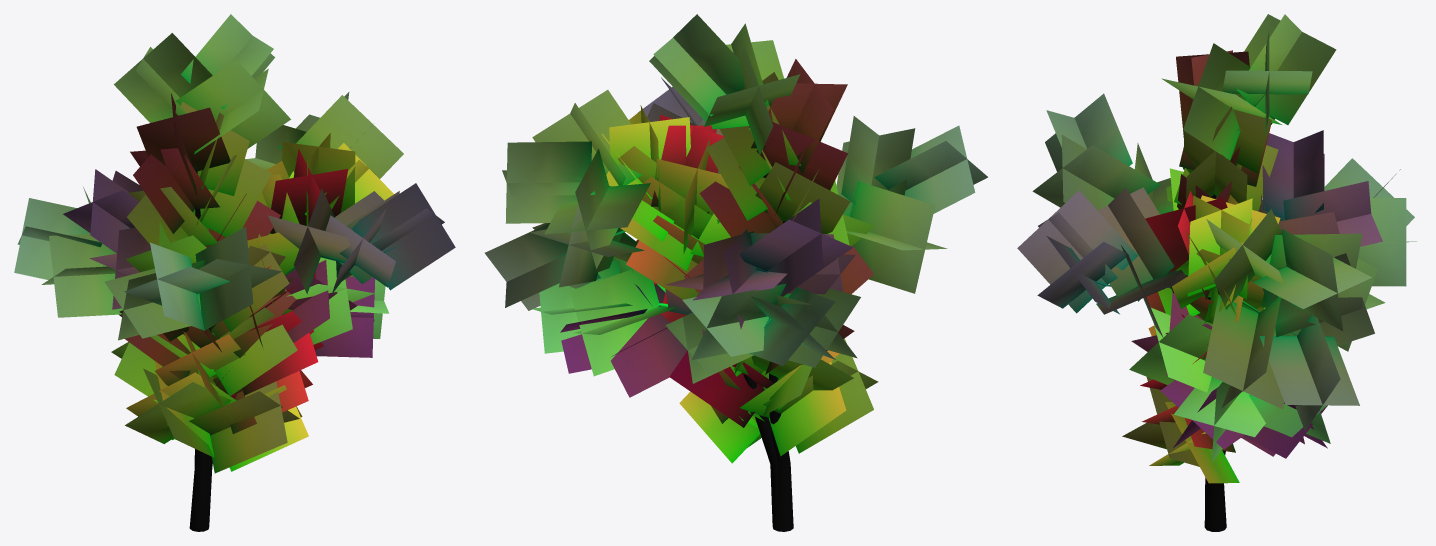
Rendered from URP_P3_Tree_12_LOD_2.fbx.
3 views of the same model, side by side, from view 1: azimuth 30°, elevation 25°; view 2: azimuth 150°, elevation 25°; view 3: azimuth 270°, elevation 25° (orthographic). The views are drawn at different scales.
Parts seen in each view (by area): view 1: Tree_12_LOD_2; view 2: Tree_12_LOD_2; view 3: Tree_12_LOD_2.
Part boxes in pixels (box(x1,y1,x2,y2)): Tree_12_LOD_2: box(14, 14, 455, 531); Tree_12_LOD_2: box(485, 14, 987, 531); Tree_12_LOD_2: box(1017, 14, 1416, 531).
Size of the model in its own units: 507 by 665 by 462.
